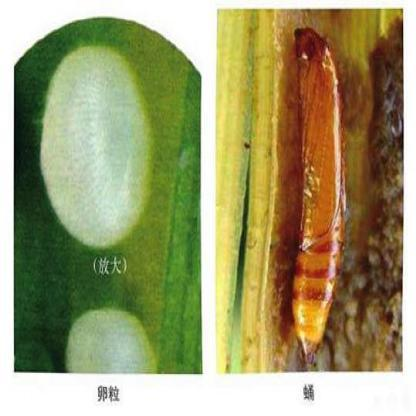whorl-maggot: (288, 21, 352, 369)
